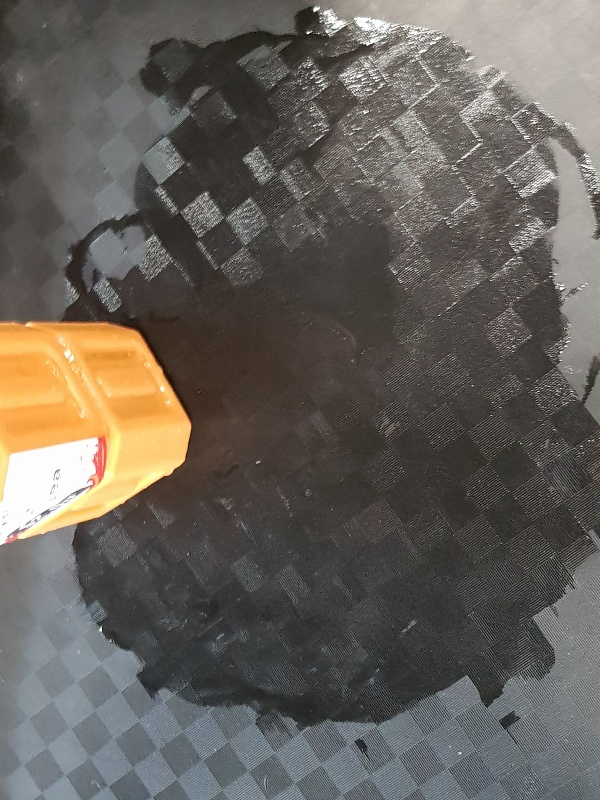Thai Milk Tea: (2, 320, 191, 545)
